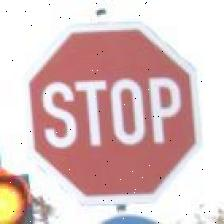Stop: (21, 20, 205, 206)
